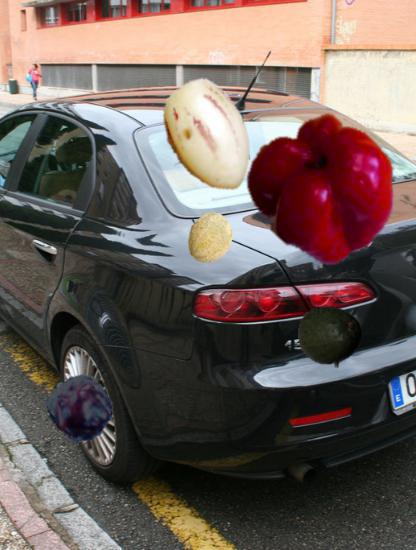Avocado: (298, 305, 363, 370)
Cantaloupe: (184, 212, 237, 265)
Dates: (48, 375, 114, 441)
Pepino: (148, 77, 267, 196)
Pepper: (251, 113, 399, 261)
